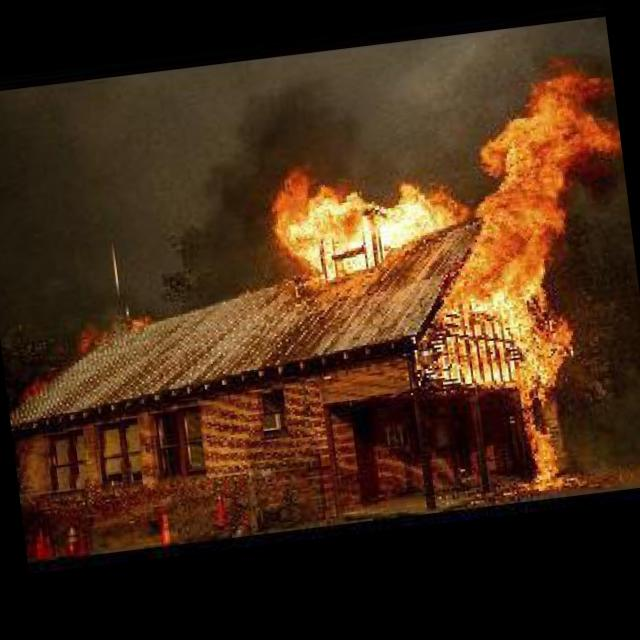fire: (294, 64, 632, 504)
